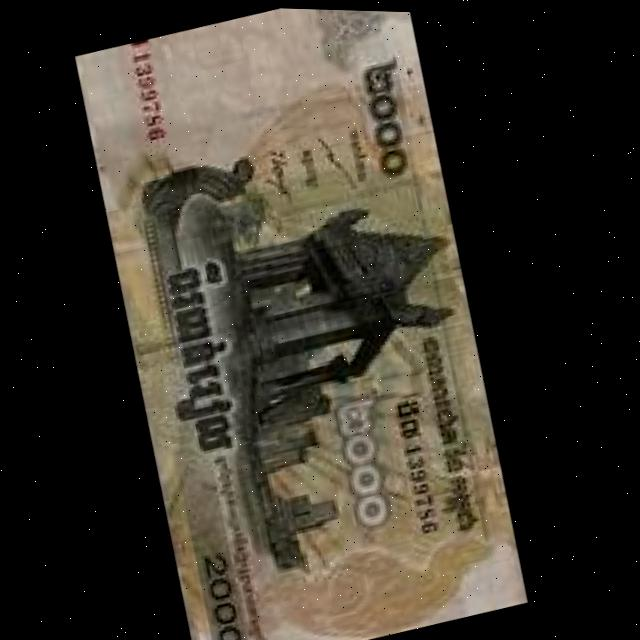banknote: (45, 2, 567, 640), (192, 544, 267, 640)
